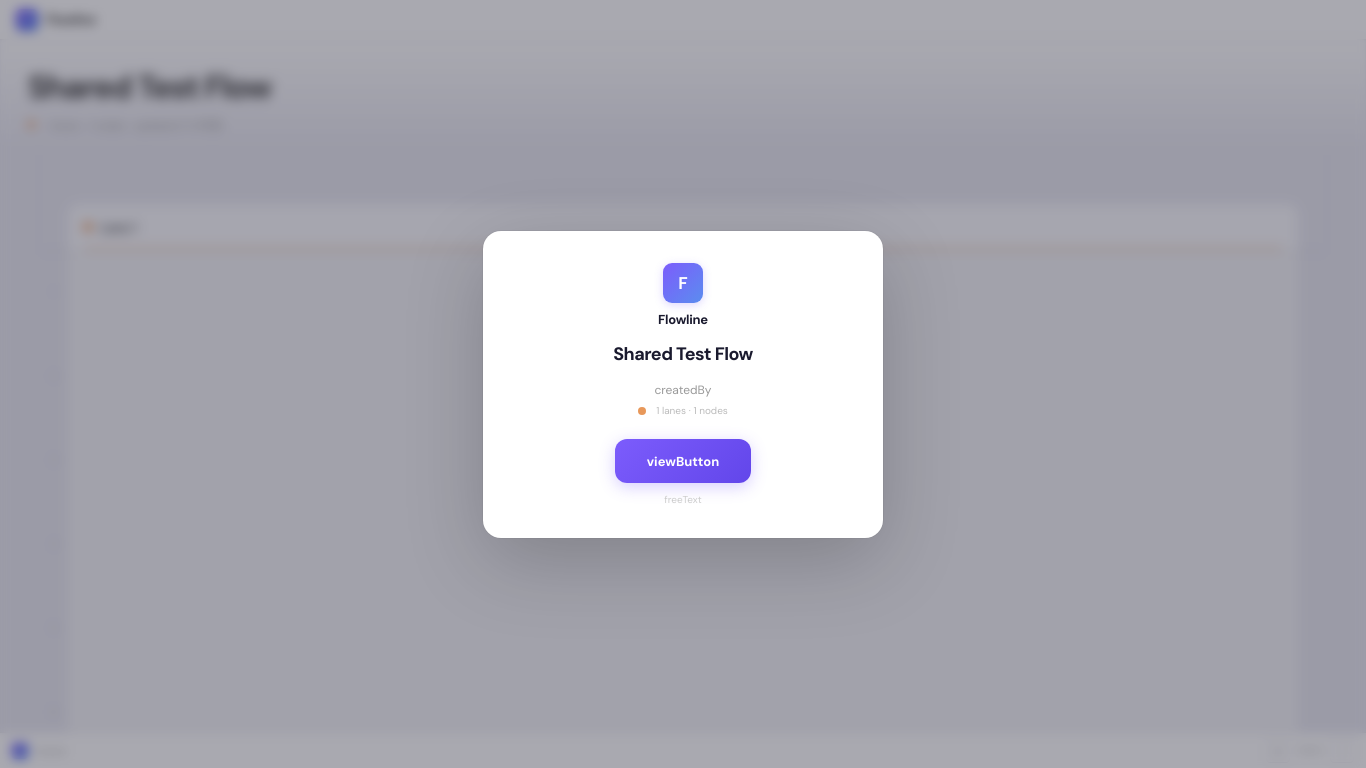
SharedFlowPage › Teaser modal and bottom CTA bar › should hide bottom CTA bar when close button is clicked
Click the button "viewButton" at (683, 460), box [615,438,751,482]
Wait 3000 ms
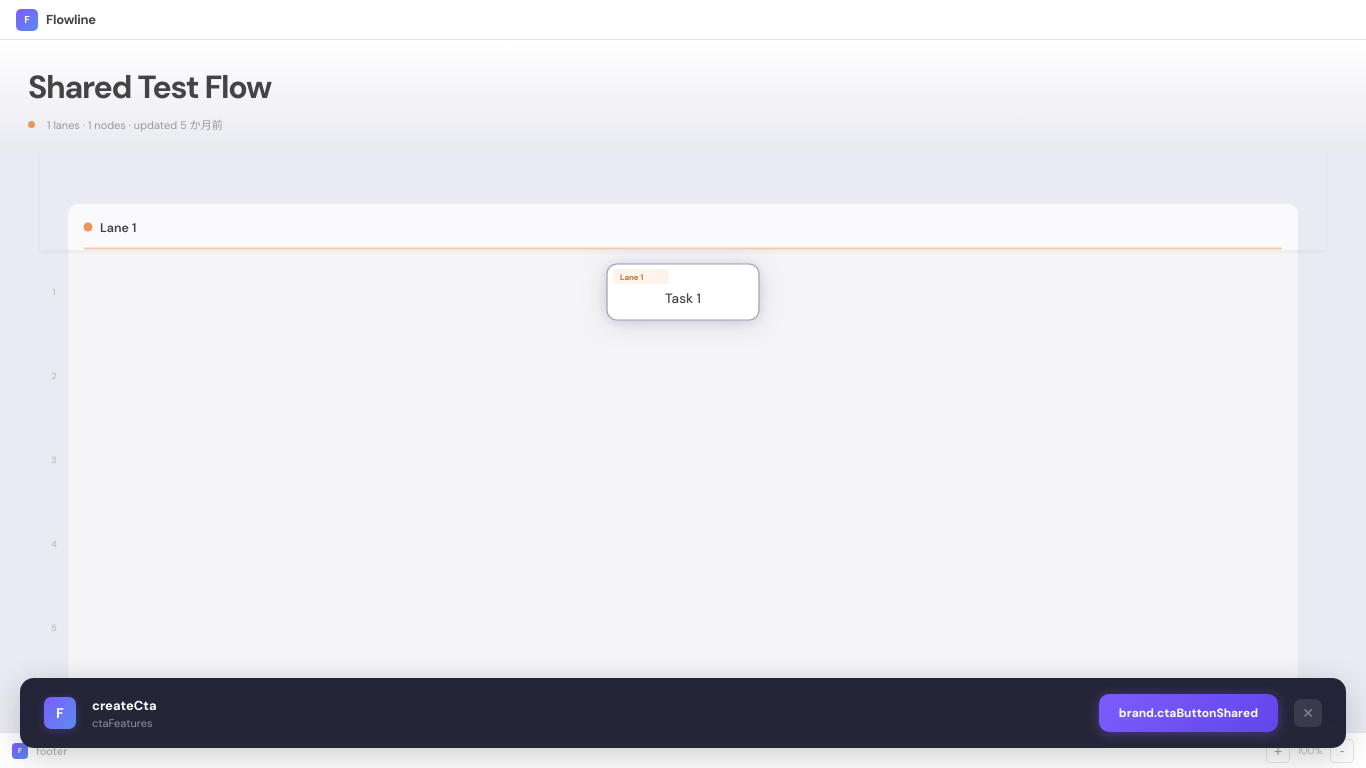
Result: the element with test id "bottom-cta-bar" is shown at [0,678,1365,767]
Click the button with test id "bottom-cta-close" at (1308, 713), box [1294,699,1322,727]
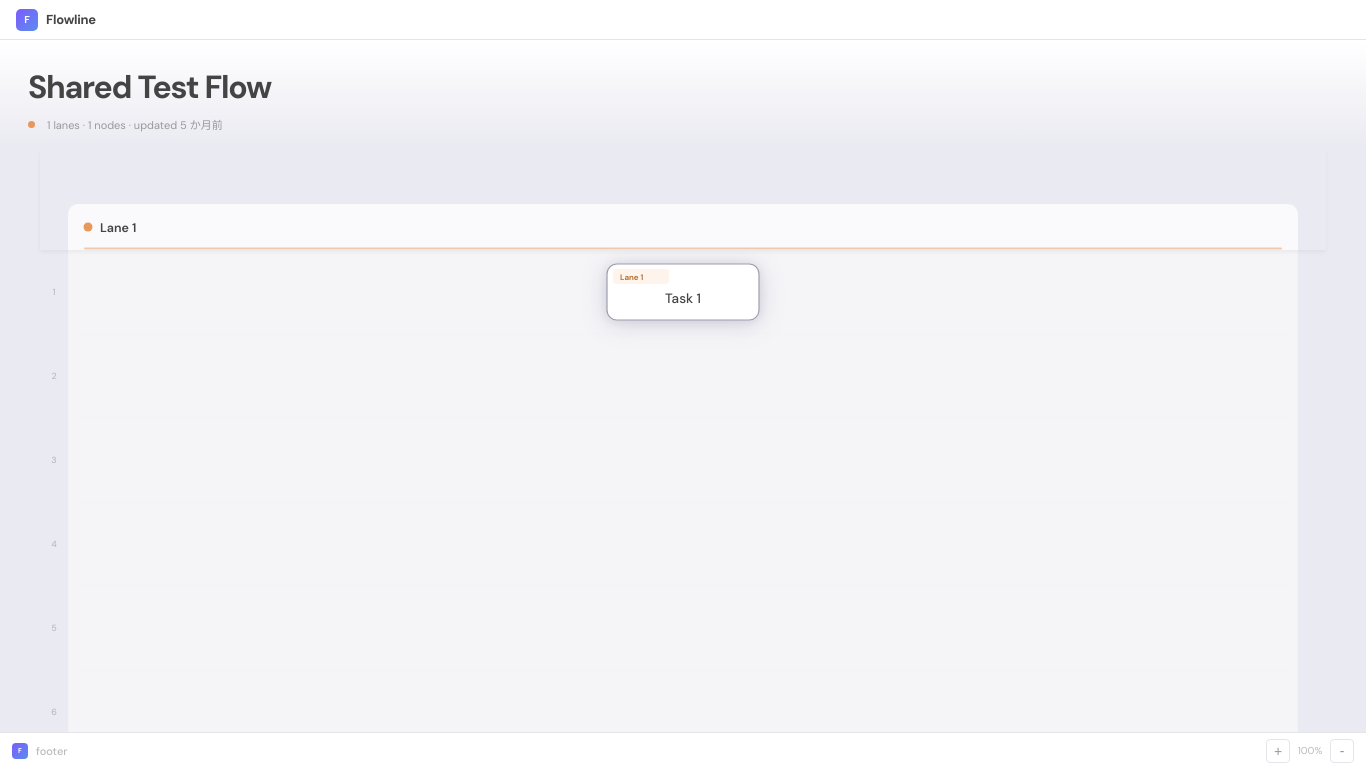
Result: the element with test id "bottom-cta-bar" is gone
